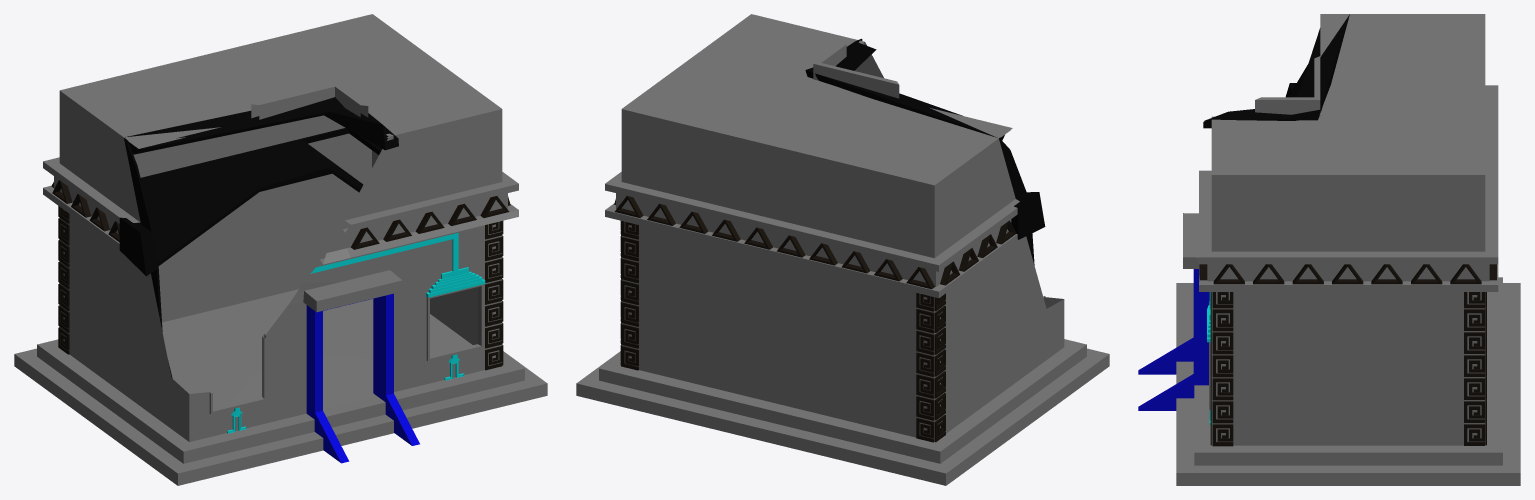
File: casa_rota_test.fbx
The picture shows the model from 3 angles, left to right: view 1: azimuth 30°, elevation 25°; view 2: azimuth 150°, elevation 25°; view 3: azimuth 270°, elevation 25°; orthographic projection. The views are drawn at different scales.
Visible parts, largest first — view 1: pCube5; view 2: pCube5; view 3: pCube5.
Part boxes in pixels (box(x1,y1,x2,y2)): pCube5: box(14, 14, 547, 485); pCube5: box(576, 14, 1109, 485); pCube5: box(1138, 14, 1520, 485).
Bounding box in the file's own units: 26.24 × 20.15 × 22.32.
